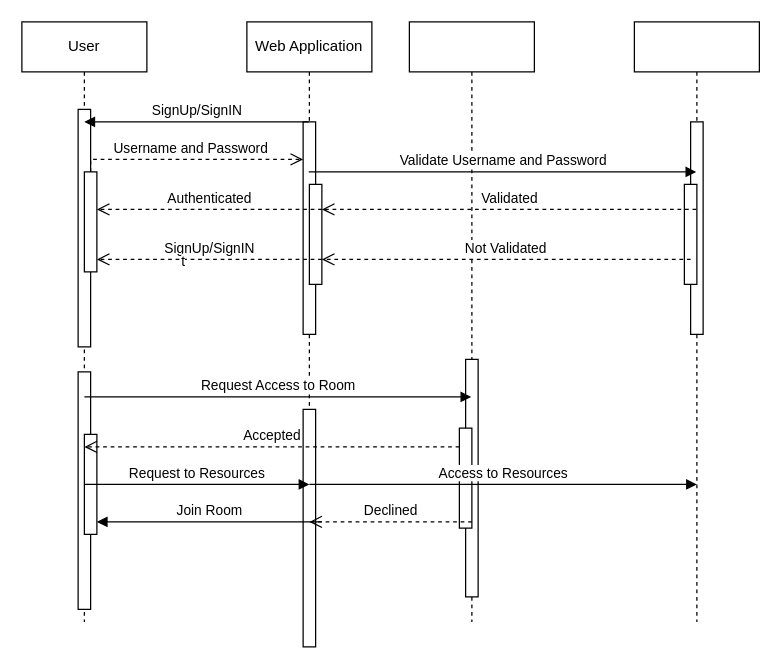
The diagram is 781 pixels wide and 669 high, and some of its shapes have lost their labels. Here are the shapes that lost their labels. From the top down, the centre of each, then its label:
At [471,321]: "Room".
At [696,321]: "Database".
